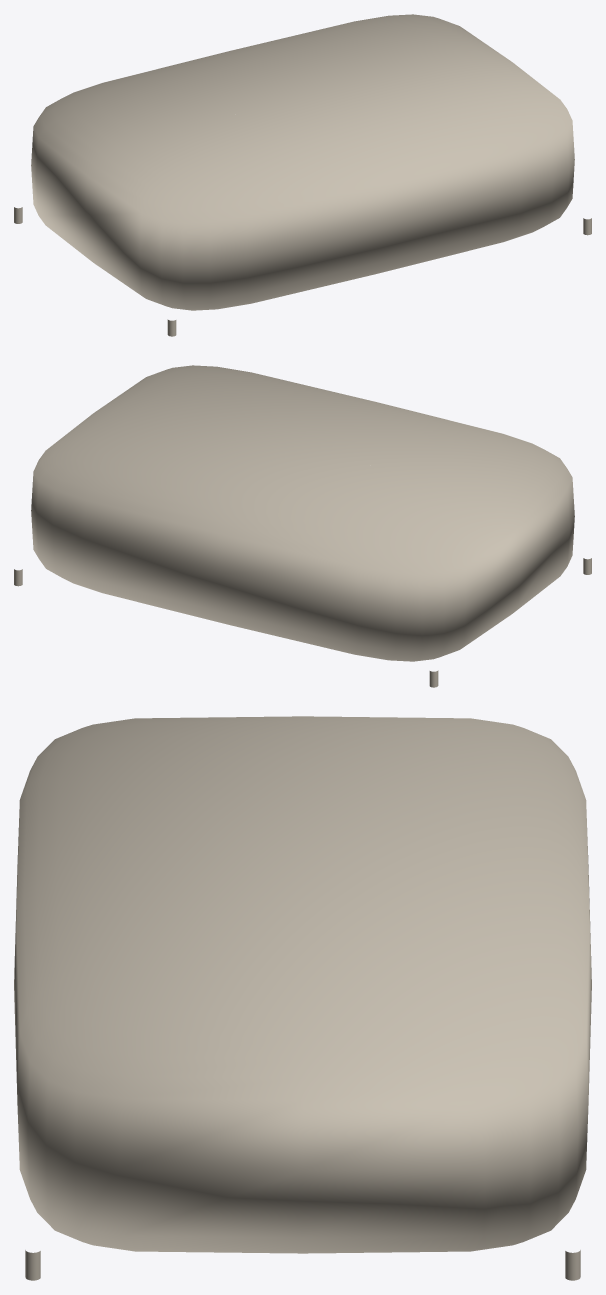
The model's file is ikea-friheten-20516542-g2-proxy.glb.
3 renders of one model, top to bottom at view 1: azimuth 30°, elevation 25°; view 2: azimuth 150°, elevation 25°; view 3: azimuth 270°, elevation 25°, orthographic. The views are drawn at different scales.
Visible parts, largest first — view 1: proxy_body; view 2: proxy_body; view 3: proxy_body.
Part boxes in pixels (x1,y1,x2,y2): proxy_body: [31, 14, 574, 310]; proxy_body: [31, 365, 574, 661]; proxy_body: [14, 716, 591, 1253].
Size of the model in its own units: 2.3 by 0.66 by 1.51.
